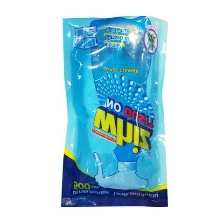cleaning_solution: (57, 12, 170, 211)
